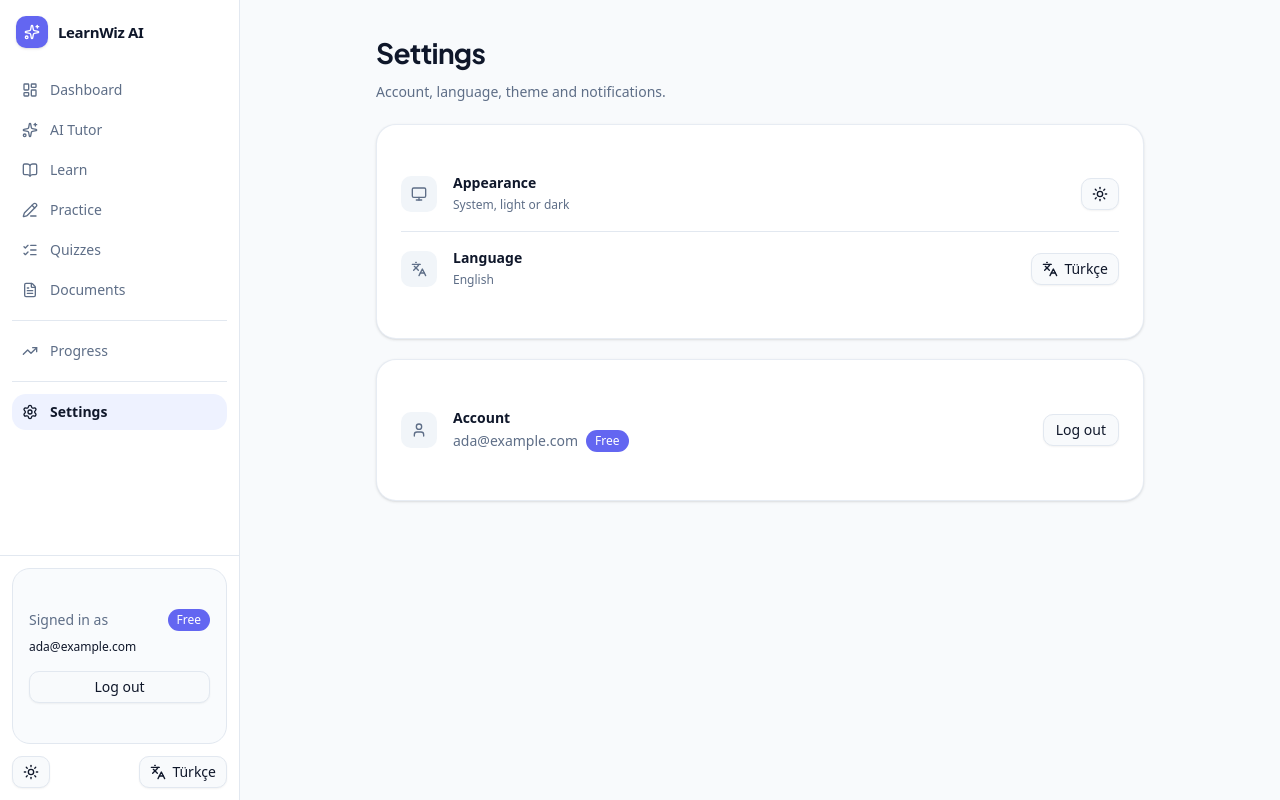
Test: SettingsPage › logs out and falls back to the guest account panel
Click the 1st button "Log out" at (1081, 430), box [1043, 414, 1119, 446]
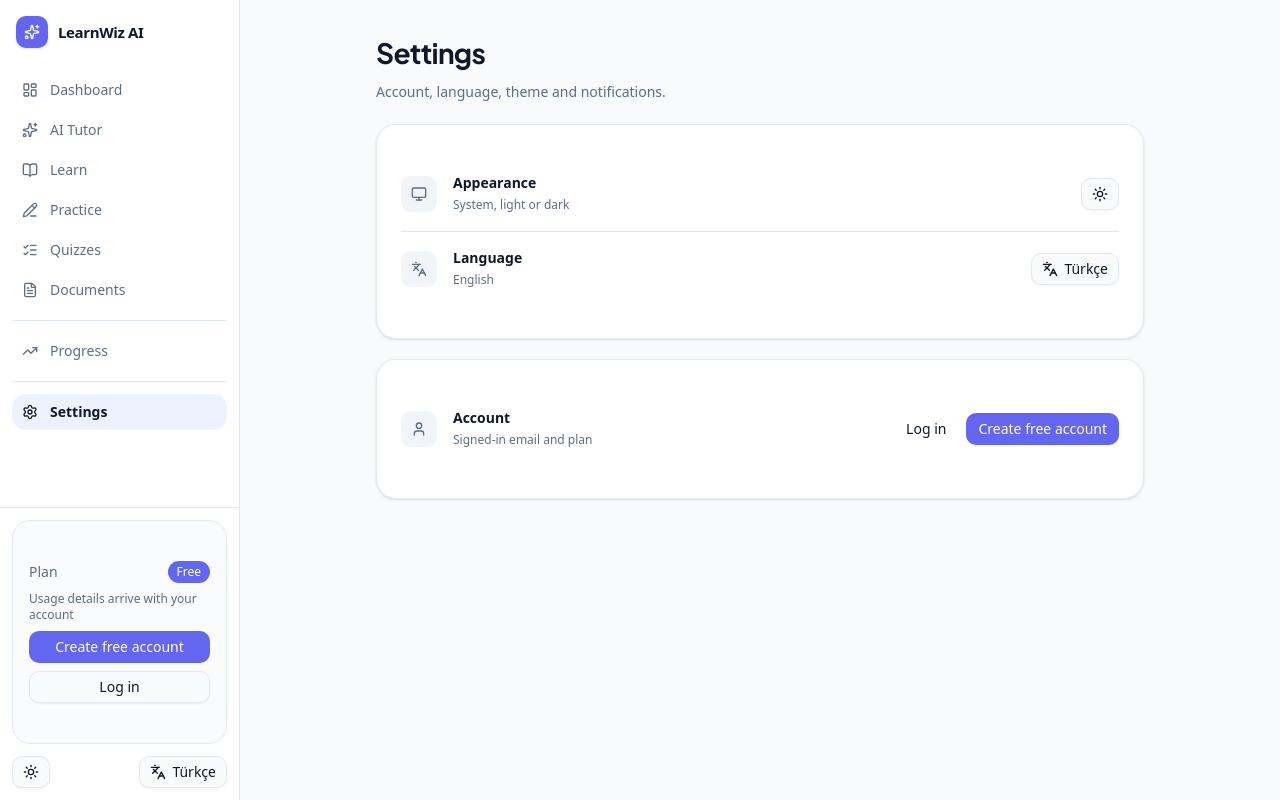
Check: the link "Create free account" in the row of "Signed-in email and plan" is shown, box [966, 413, 1119, 445]
